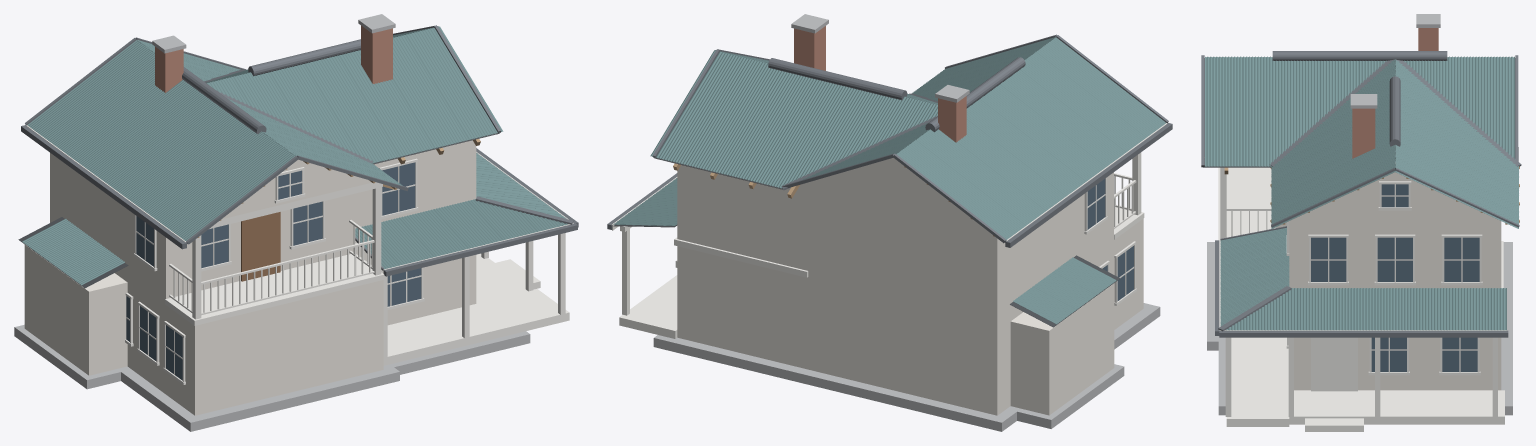
The model's file is Agua_Corr_1220_LShape_Balcony_House.glb.
The picture shows the model from 3 angles, left to right: view 1: azimuth 30°, elevation 25°; view 2: azimuth 150°, elevation 25°; view 3: azimuth 270°, elevation 25°; orthographic projection. The views are drawn at different scales.
Visible parts, largest first — view 1: WingA_Walls_GF, WingA_Walls_2F, SideBay_Walls, WingB_Walls, Porch_Deck_FrontB, Balcony_Floor, Foundation_WingA, RoofSheet_20, RoofSheet_23, RoofSheet_22, RoofSheet_21, RoofSheet_01 (+51 smaller); view 2: WingA_Walls_2F, WingB_Walls, WingA_Walls_GF, SideBay_Walls, Foundation_WingA, RoofSheet_25, RoofSheet_26, RoofSheet_27, RoofSheet_24, RoofSheet_08, RoofSheet_07, RoofSheet_02 (+31 smaller); view 3: WingB_Walls, Porch_Deck_RightB, Porch_Deck_FrontB, RoofSheet_09, RoofSheet_10, RoofSheet_16, Balcony_Floor, RoofSheet_11, Gable_Wall_WingB_Right, Door_Frame, RoofSheet_22, RoofSheet_25 (+56 smaller).
Boxes of the visible parts, left/top/right/bottom form: WingA_Walls_GF: left=50, top=215, right=383, bottom=415; WingA_Walls_2F: left=50, top=153, right=354, bottom=298; SideBay_Walls: left=24, top=245, right=127, bottom=375; WingB_Walls: left=354, top=140, right=476, bottom=325; Porch_Deck_FrontB: left=383, top=289, right=569, bottom=365; Balcony_Floor: left=165, top=254, right=384, bottom=325; Foundation_WingA: left=120, top=364, right=399, bottom=431; RoofSheet_20: left=304, top=55, right=399, bottom=163; RoofSheet_23: left=406, top=26, right=503, bottom=139; RoofSheet_22: left=393, top=35, right=468, bottom=148; RoofSheet_21: left=339, top=50, right=434, bottom=156; RoofSheet_01: left=27, top=40, right=154, bottom=139; WingA_Walls_2F: left=807, top=172, right=1113, bottom=319; WingB_Walls: left=677, top=165, right=807, bottom=369; WingA_Walls_GF: left=807, top=219, right=1143, bottom=415; SideBay_Walls: left=1010, top=283, right=1114, bottom=415; Foundation_WingA: left=791, top=303, right=1160, bottom=431; RoofSheet_25: left=685, top=59, right=780, bottom=172; RoofSheet_26: left=720, top=71, right=815, bottom=181; RoofSheet_27: left=754, top=79, right=850, bottom=188; RoofSheet_24: left=650, top=50, right=748, bottom=164; RoofSheet_08: left=1036, top=37, right=1165, bottom=137; RoofSheet_07: left=1020, top=52, right=1146, bottom=152; RoofSheet_02: left=916, top=129, right=1045, bottom=225; WingB_Walls: left=1289, top=213, right=1501, bottom=390; Porch_Deck_RightB: left=1231, top=390, right=1504, bottom=424; Porch_Deck_FrontB: left=1226, top=337, right=1289, bottom=426; RoofSheet_09: left=1205, top=57, right=1243, bottom=166; RoofSheet_10: left=1243, top=57, right=1282, bottom=166; RoofSheet_16: left=1476, top=57, right=1514, bottom=159; Balcony_Floor: left=1218, top=167, right=1275, bottom=240; RoofSheet_11: left=1282, top=60, right=1321, bottom=153; Gable_Wall_WingB_Right: left=1307, top=162, right=1480, bottom=212; Door_Frame: left=1311, top=337, right=1357, bottom=391; RoofSheet_22: left=1271, top=142, right=1395, bottom=212; RoofSheet_25: left=1395, top=142, right=1518, bottom=212.
Size of the model in its own units: 12.44 by 7.83 by 8.16.
